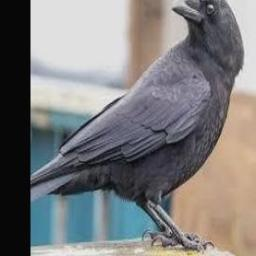Crow: (30, 0, 245, 252)
